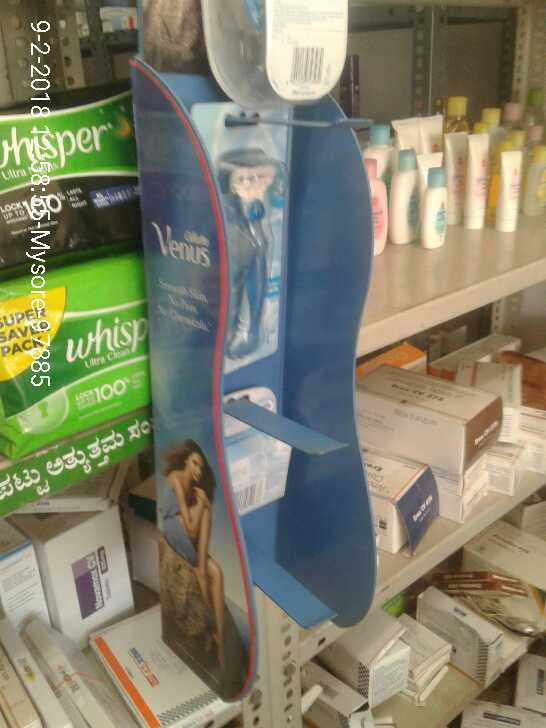beauty: (211, 118, 289, 366)
pharmacy: (4, 249, 168, 460), (5, 96, 147, 251)
